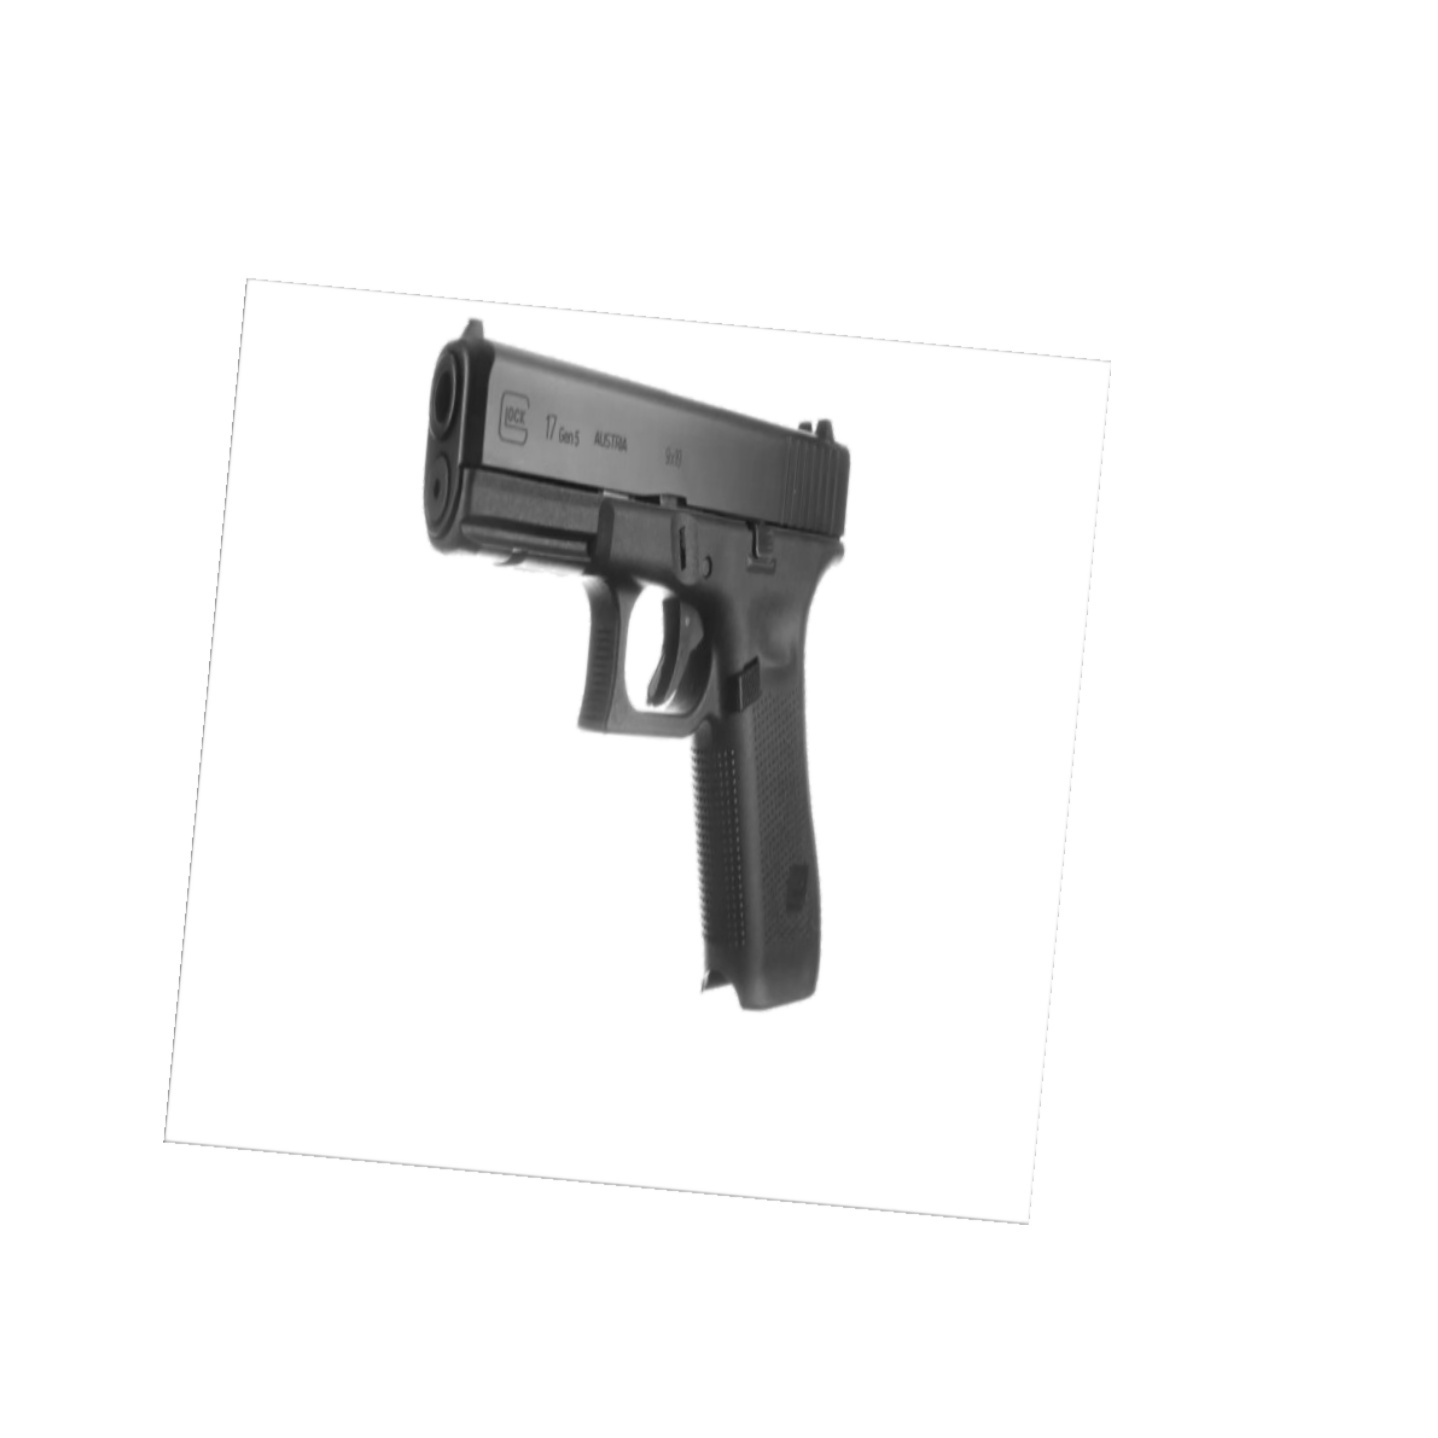gun: (425, 316, 849, 1017)
